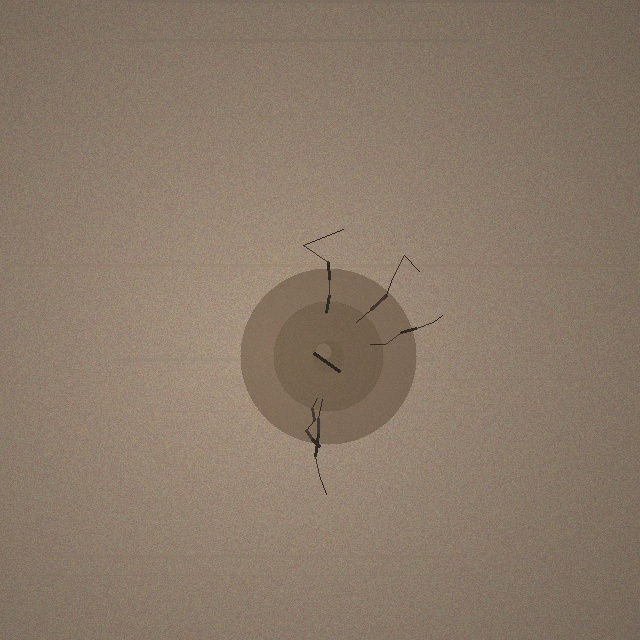crack: (240, 268, 416, 444)
